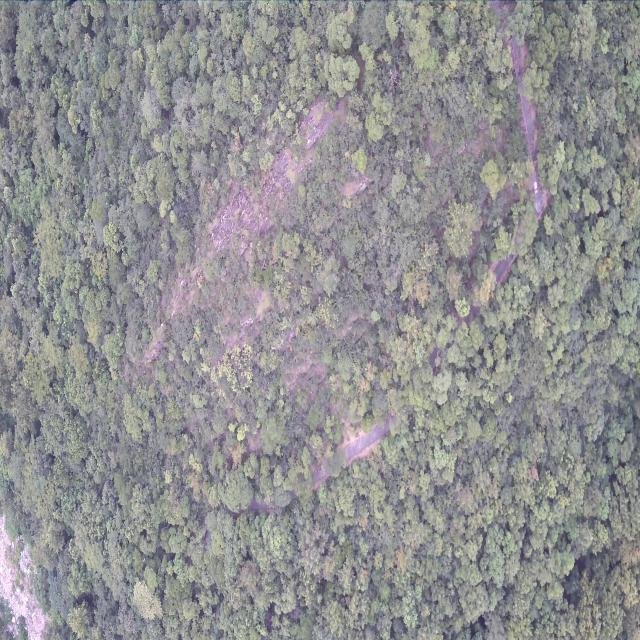UAV: (279, 338, 284, 346)
